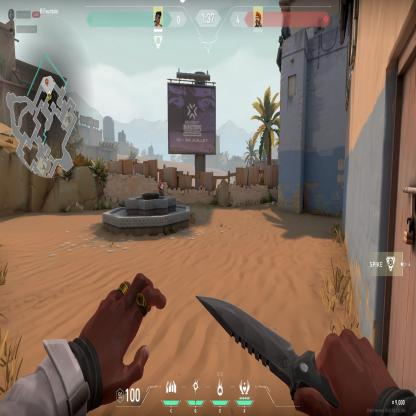enemy: (156, 178, 164, 197)
